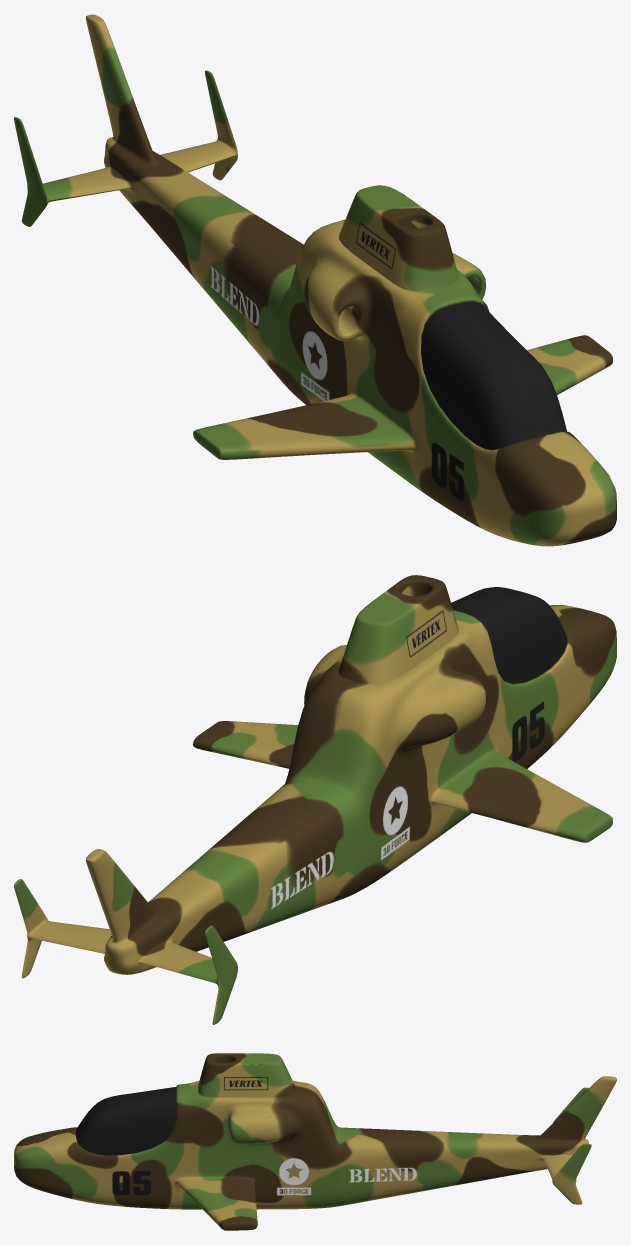
File: HelicopterBody.glb
3 views of the same model, one above another, from view 1: azimuth 30°, elevation 25°; view 2: azimuth 150°, elevation 25°; view 3: azimuth 270°, elevation 25° (orthographic). The views are drawn at different scales.
Parts seen in each view (by area): view 1: Helicopter Body; view 2: Helicopter Body; view 3: Helicopter Body.
Part boxes in pixels (box(x1,y1,x2,y2)): Helicopter Body: box(14, 14, 616, 546); Helicopter Body: box(14, 575, 616, 1024); Helicopter Body: box(14, 1053, 616, 1230).
Size of the model in its own units: 11.9 by 6.99 by 26.32.
1 material, 1 textured.
